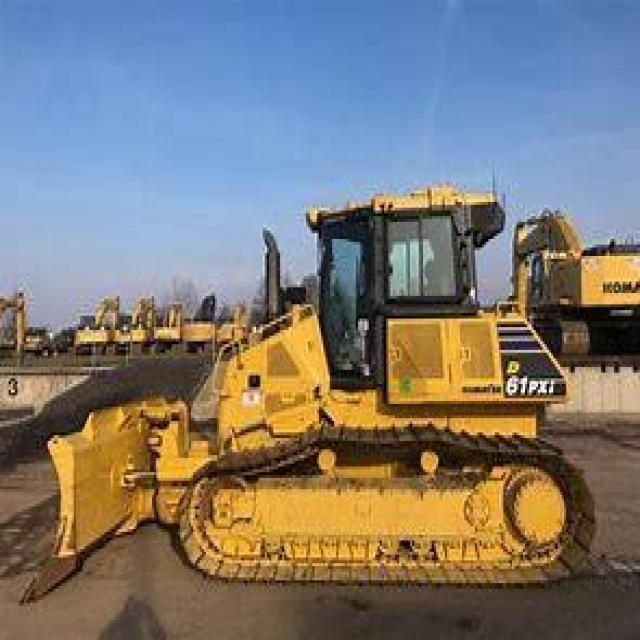buldozerpayloadergrader: (20, 165, 627, 594)
